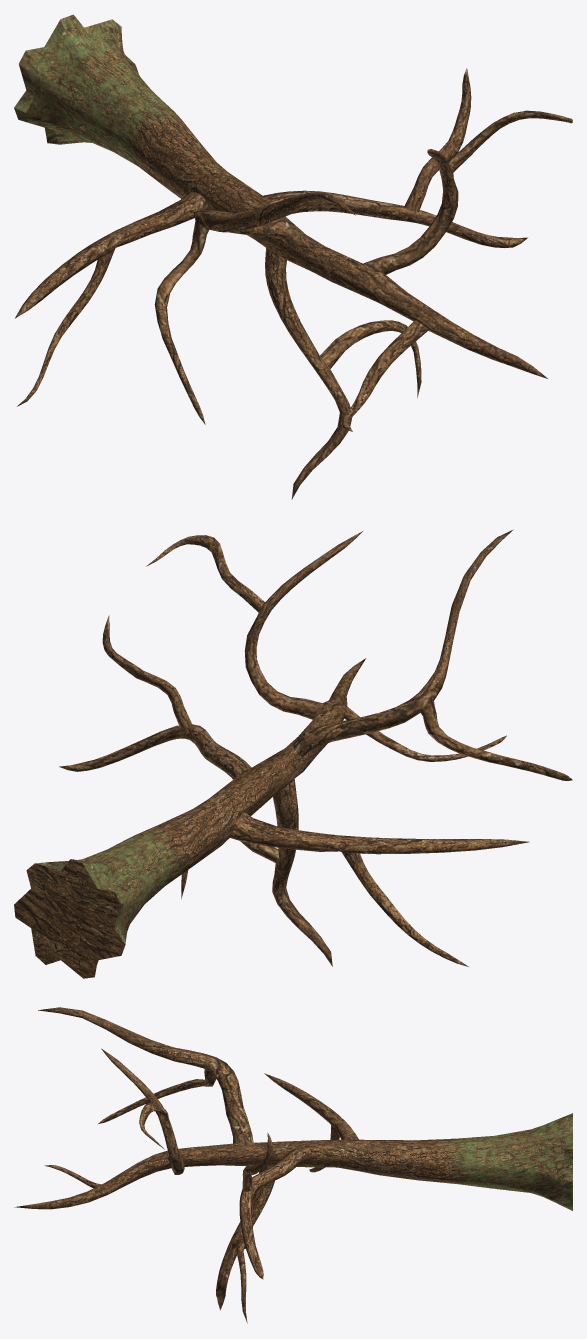
Rendered from Tree-Asset-01_V3_90-on-X.FBX.
3 views of the same model, one above another, from view 1: azimuth 30°, elevation 25°; view 2: azimuth 150°, elevation 25°; view 3: azimuth 270°, elevation 25° (orthographic). The views are drawn at different scales.
Parts seen in each view (by area): view 1: Tree Aset 01; view 2: Tree Aset 01; view 3: Tree Aset 01.
Part boxes in pixels (left/top/right/bottom): Tree Aset 01: left=14, top=14, right=572, bottom=499; Tree Aset 01: left=14, top=529, right=572, bottom=978; Tree Aset 01: left=14, top=1007, right=572, bottom=1323.
Size of what is drawn, in the model's own units: 406 by 545 by 302.
